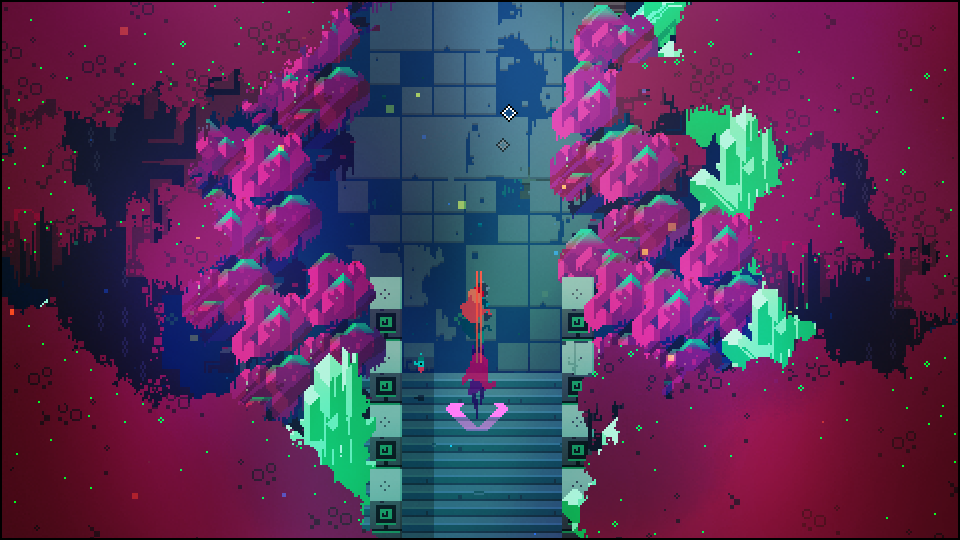player: (458, 278, 495, 335)
